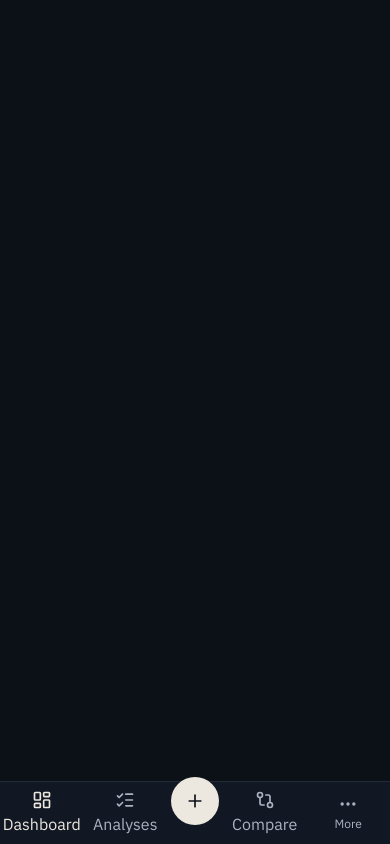
MobileBottomBar › reveals Watchlist and Settings behind More, since only five slots fit
Check: the link "Watchlist" is not shown
Click the button "More". click: (348, 813)
box: [306,786,389,840]
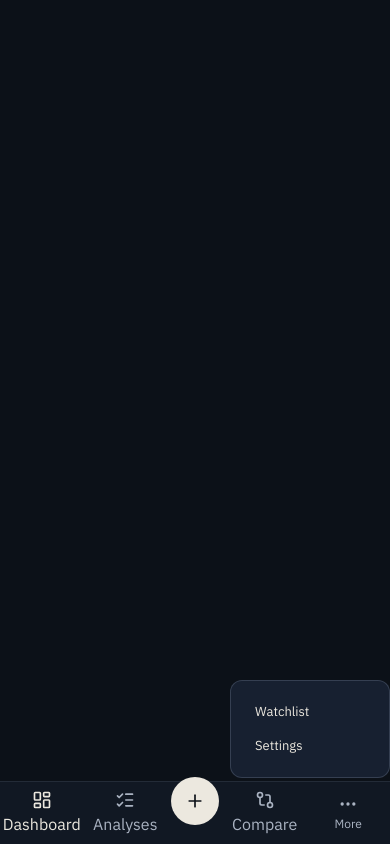
Check: the link "Watchlist" is shown, box [255,703,309,720]
Check: the link "Settings" is shown, box [255,737,302,754]
